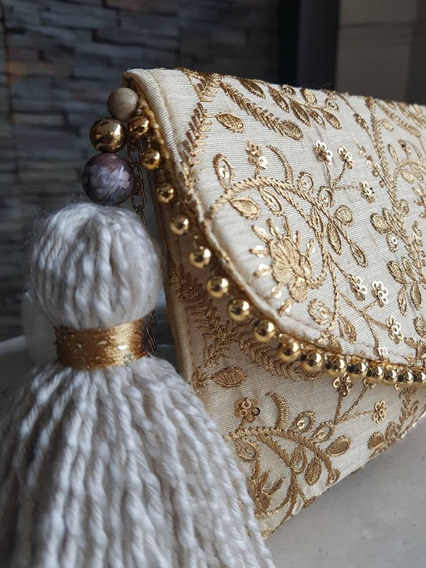cartera: (87, 61, 426, 536)
